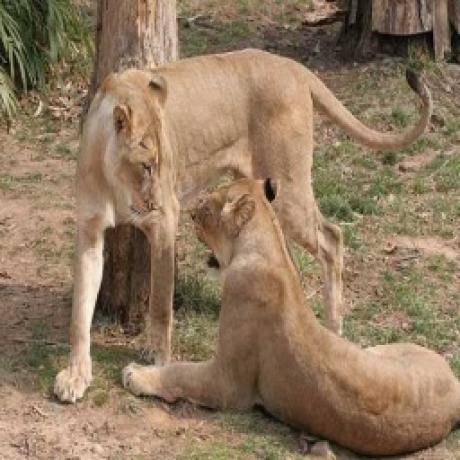Lion: (52, 44, 436, 410), (124, 172, 460, 454)
